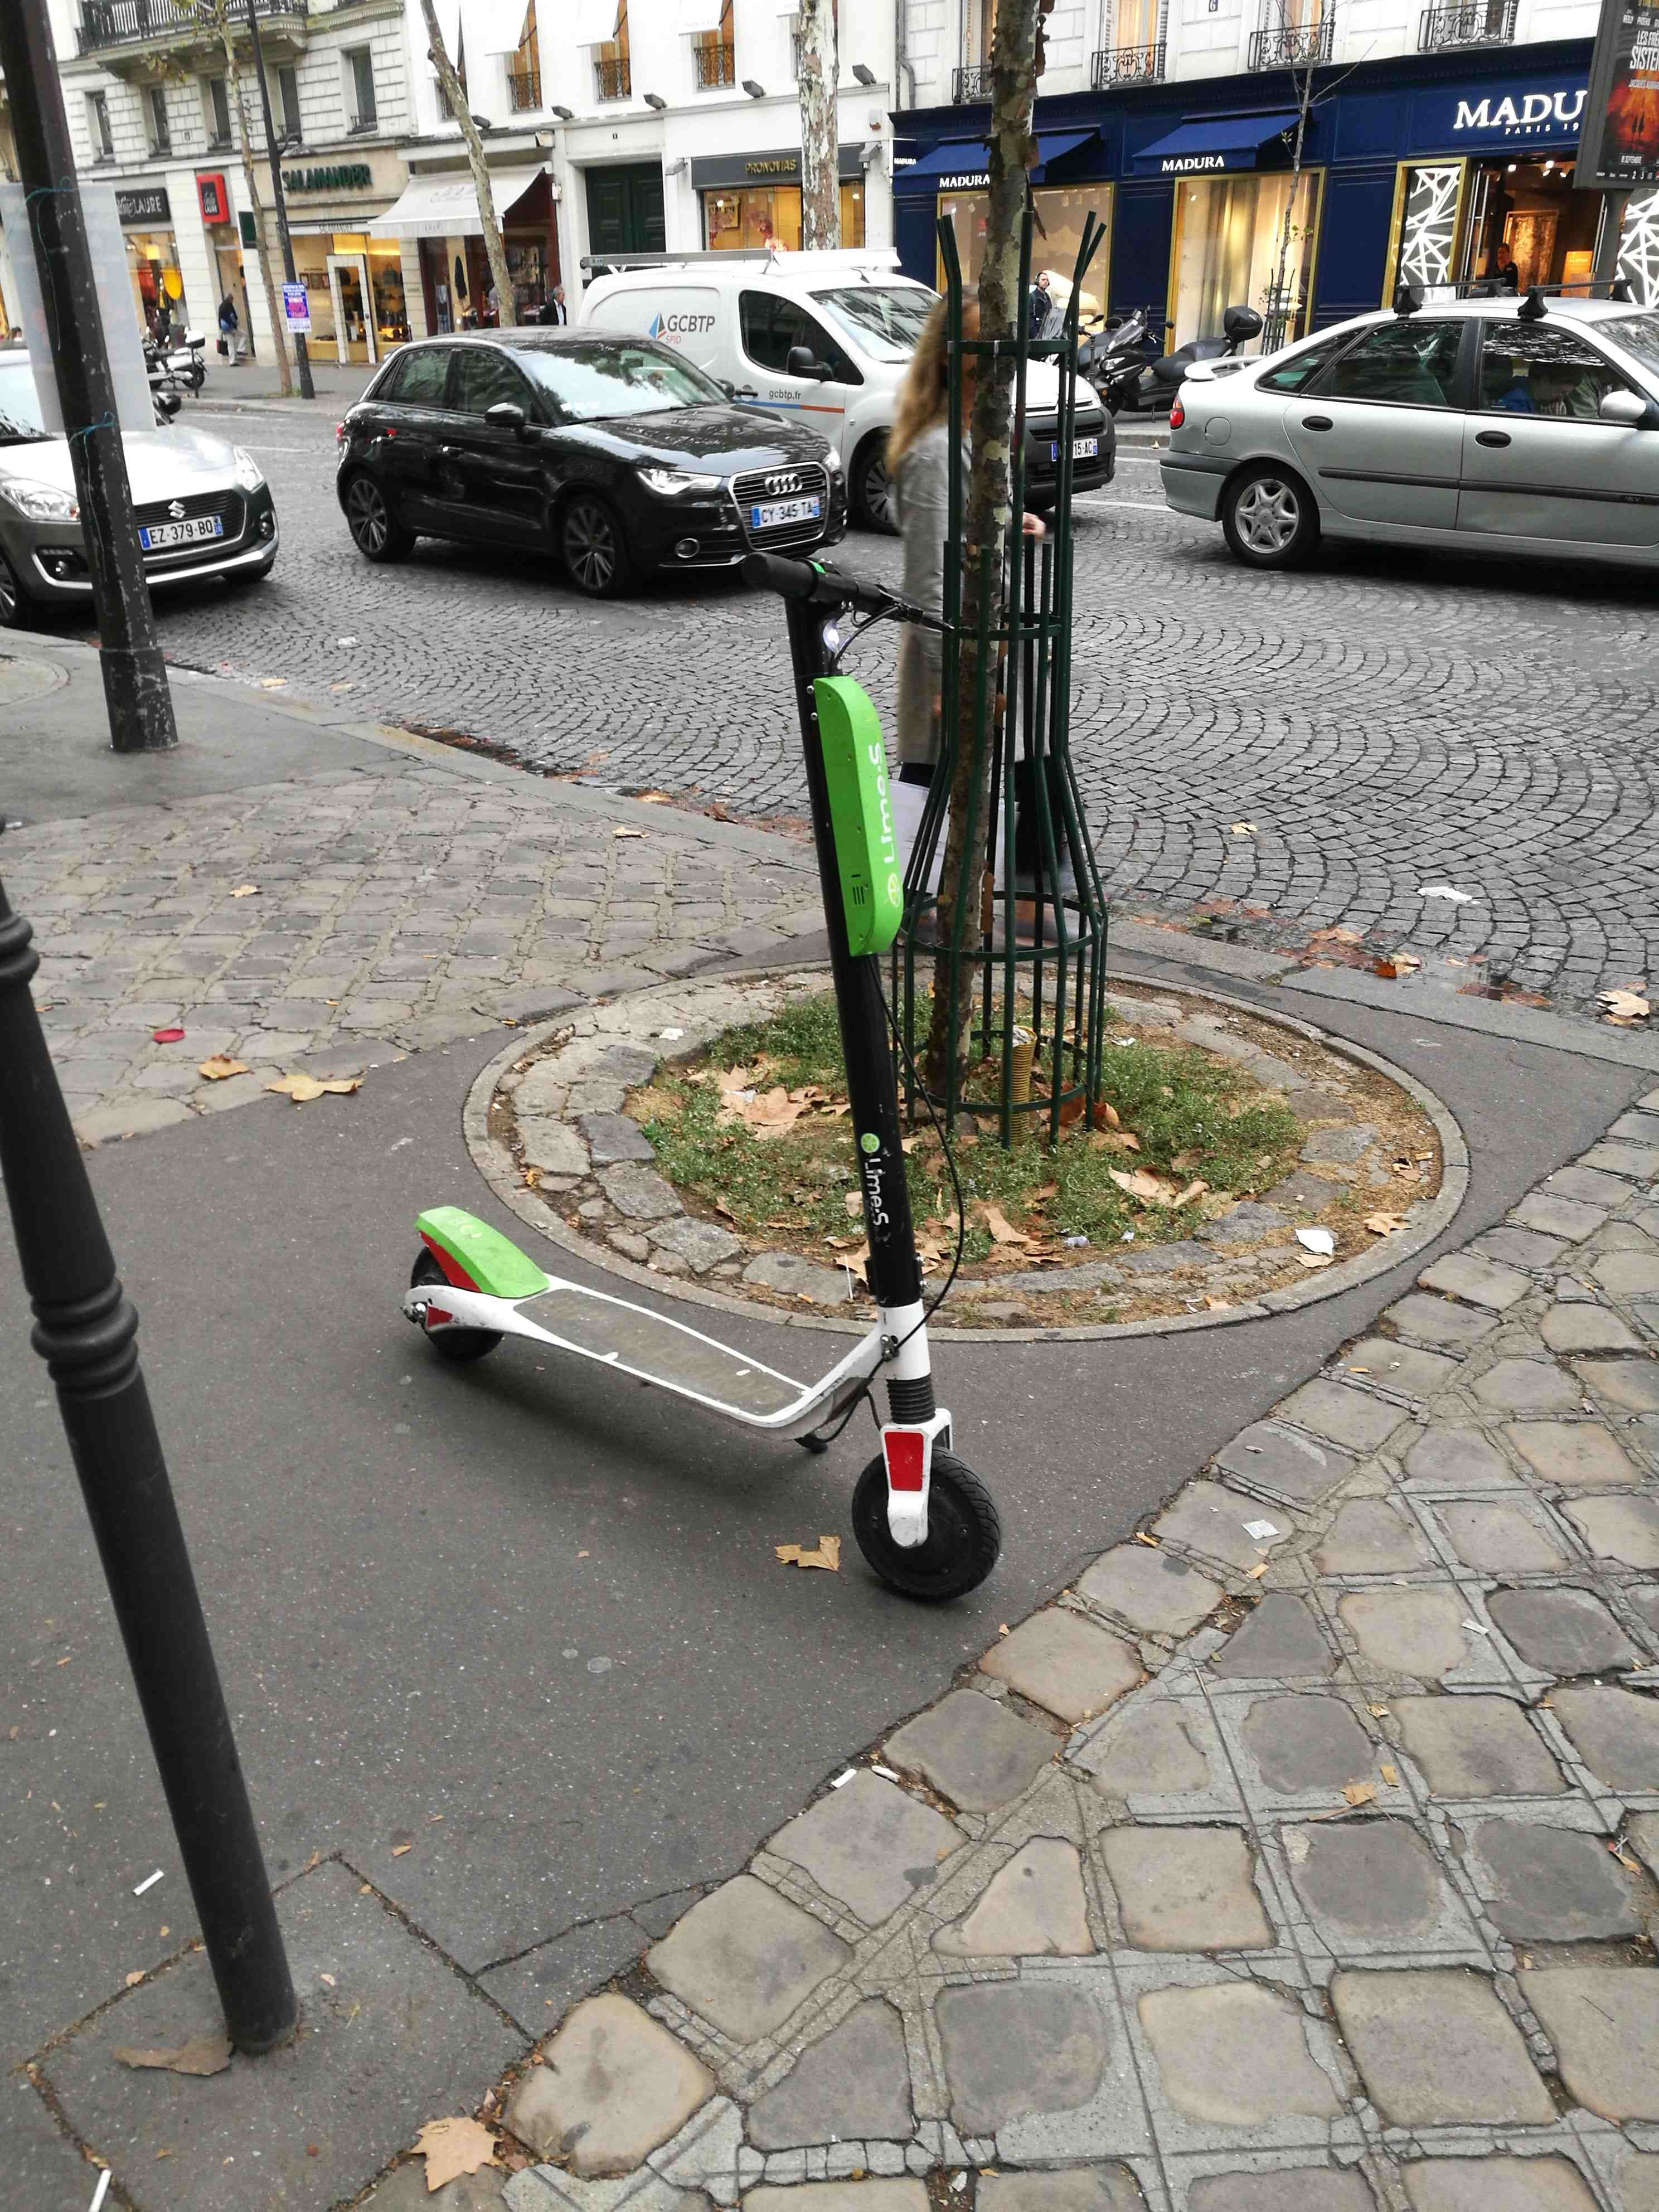scooter: (350, 489, 985, 1629)
